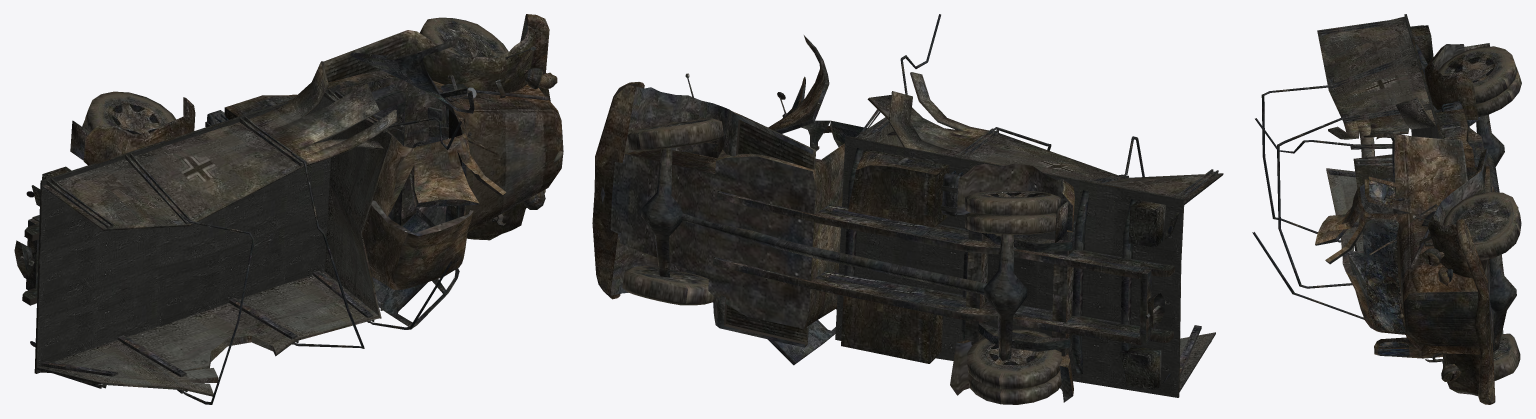
File: vehicle_opel_blitz_desert_d_static.glb
3 views of the same model, side by side, from view 1: azimuth 30°, elevation 25°; view 2: azimuth 150°, elevation 25°; view 3: azimuth 270°, elevation 25° (orthographic). The views are drawn at different scales.
Size of the model in its own units: 255 by 124 by 125.
2 materials, 2 textured.
